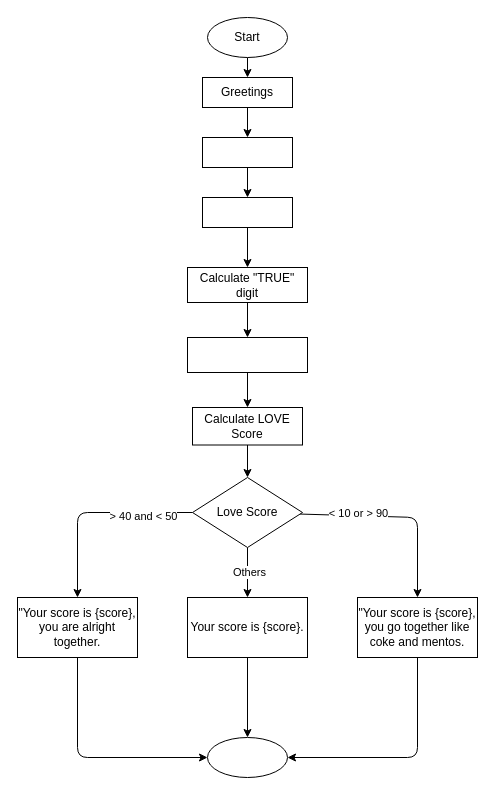
This 495x795 diagram has some shape labels left out. The centre of each missing label's shape, as x and y in pixels:
Calculate "LOVE" digit: (x=247, y=354)
End: (x=247, y=757)
Get name 1: (x=247, y=152)
Get name 2: (x=247, y=212)
